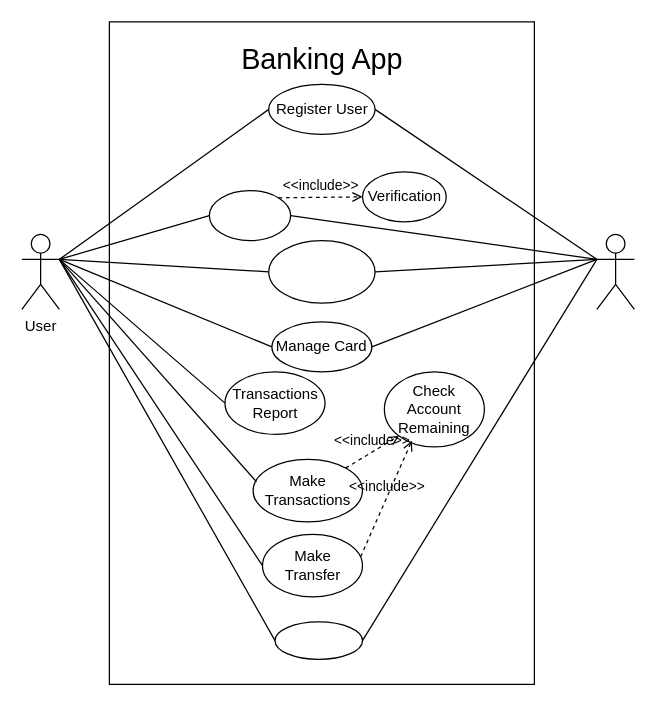
This 659x706 diagram has some shape labels left out. The box of each missing label's shape, as (x1, y1, x2, y2) in pixels:
Admin: (596, 233, 634, 309)
Login: (208, 189, 291, 241)
Logout: (274, 621, 362, 659)
Manage User Information: (268, 239, 375, 303)
